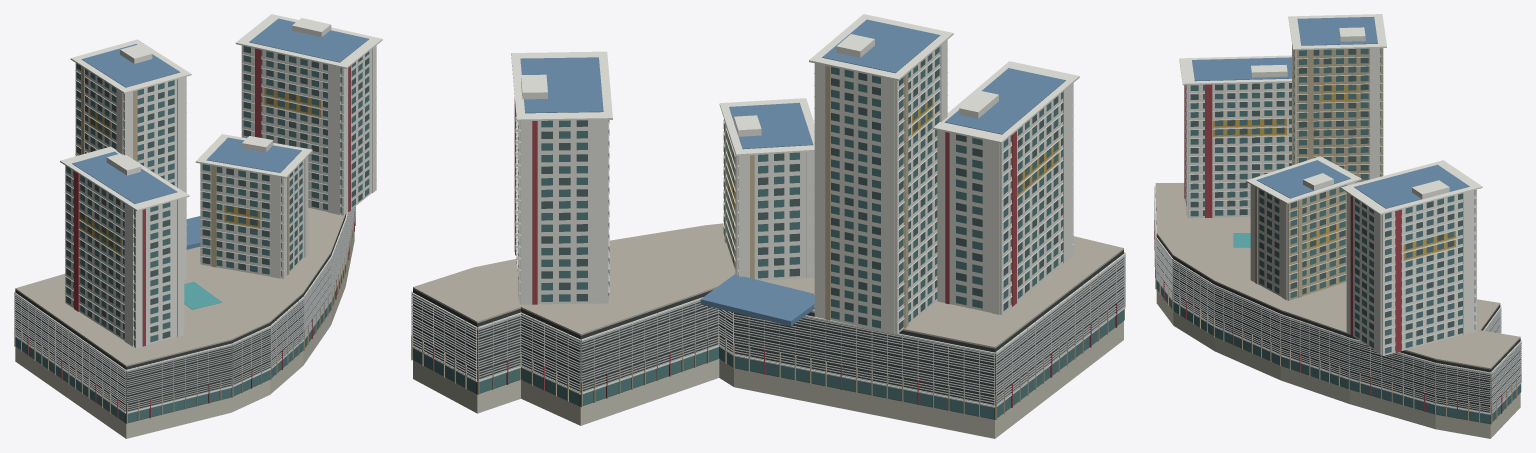
Rendered from residensi_lod1.glb.
The picture shows the model from 3 angles, left to right: view 1: azimuth 30°, elevation 25°; view 2: azimuth 150°, elevation 25°; view 3: azimuth 270°, elevation 25°; orthographic projection. The views are drawn at different scales.
Parts seen in each view (by area): view 1: PaintWhite, Glass, Paving, Screen, Dark, RoofBlue, GlassDark, Stone, PaintWarm, Burgundy, GoldPanels, Pool; view 2: PaintWhite, Screen, Dark, Glass, Paving, RoofBlue, Stone, GlassDark, PaintWarm, Burgundy, GoldPanels; view 3: PaintWhite, Glass, Screen, Dark, Paving, PaintWarm, RoofBlue, GlassDark, Stone, Burgundy, GoldPanels.
Part boxes in pixels (x1,y1,x2,y2): PaintWhite: (14,14,382,413); Glass: (15,50,369,422); Paving: (15,207,345,366); Screen: (14,206,355,412); Dark: (15,213,346,423); RoofBlue: (72,18,368,249); GlassDark: (66,46,369,345); Stone: (15,231,354,438); PaintWarm: (14,66,355,423); Burgundy: (27,48,354,418); GoldPanels: (79,88,320,254); Pool: (184,282,222,309); PaintWhite: (411,14,1125,407); Screen: (411,256,1125,405); Dark: (413,250,1123,419); Glass: (412,47,1124,419); Paving: (413,223,1123,348); RoofBlue: (520,19,1065,326); Stone: (413,321,1123,438); GlassDark: (516,59,1063,330); PaintWarm: (411,65,1124,419); Burgundy: (433,98,1117,407); GoldPanels: (517,97,1059,209); PaintWhite: (1154,14,1521,414); Glass: (1156,48,1520,423); Screen: (1154,189,1521,413); Dark: (1155,195,1520,424); Paving: (1155,183,1520,369); PaintWarm: (1154,44,1521,424); RoofBlue: (1192,17,1469,208); GlassDark: (1185,49,1475,350); Stone: (1156,289,1520,438); Burgundy: (1154,84,1502,418); GoldPanels: (1213,84,1455,260).
Size of the model in its own units: 144 by 98.07 by 119.
